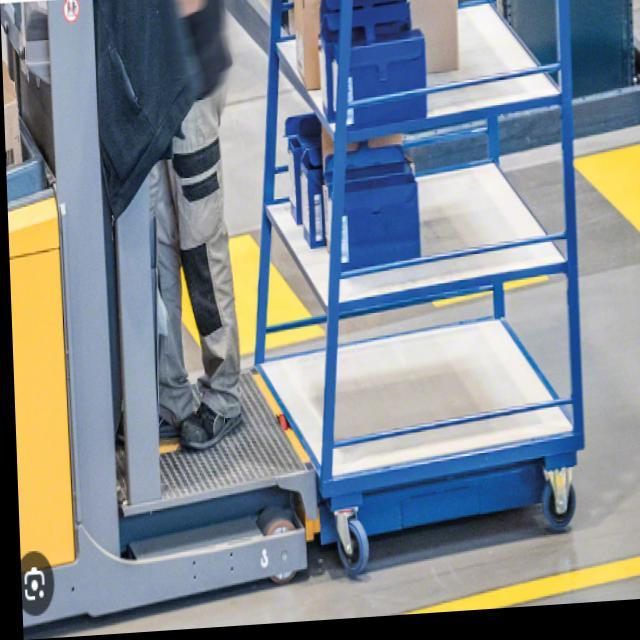boots: (112, 362, 251, 459)
